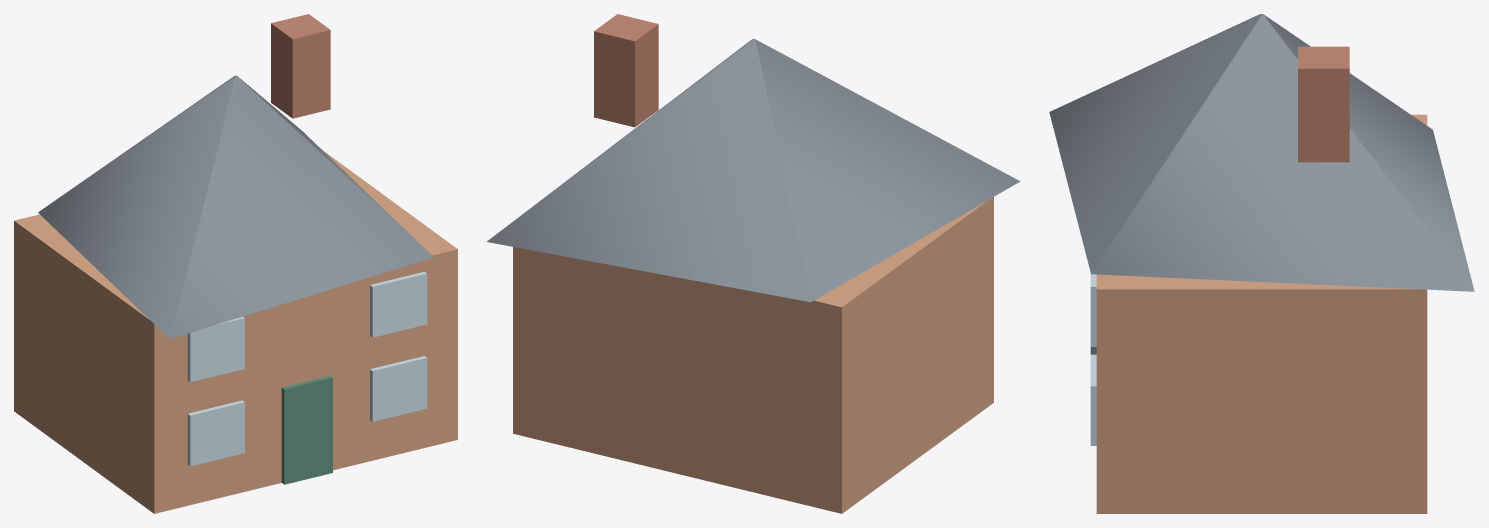
File: sample_house.glb
The picture shows the model from 3 angles, left to right: view 1: azimuth 30°, elevation 25°; view 2: azimuth 150°, elevation 25°; view 3: azimuth 270°, elevation 25°; orthographic projection. The views are drawn at different scales.
Bounding box in the file's own units: 2.06 × 2.25 × 2.06.
